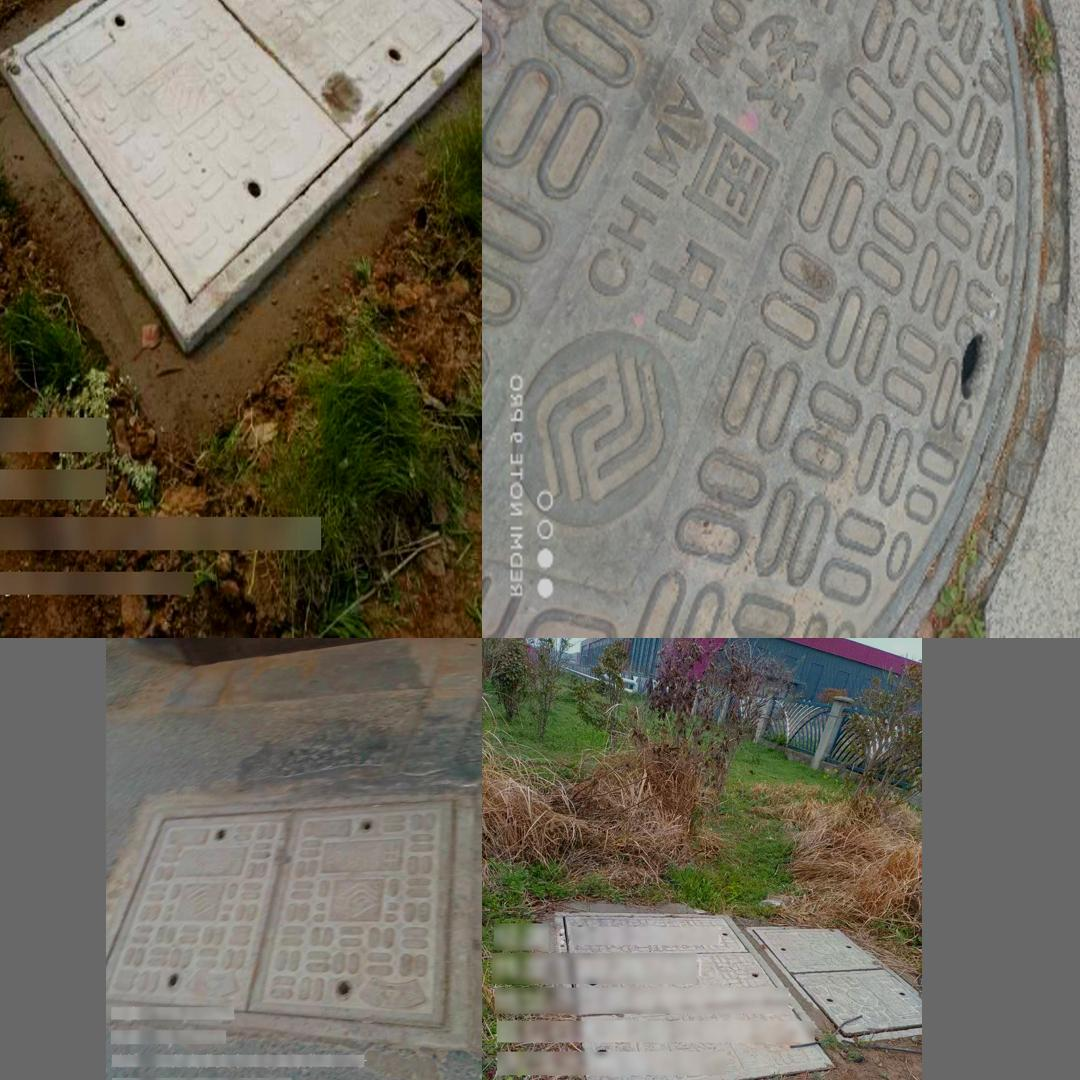good: (482, 0, 1066, 638), (0, 0, 482, 357), (108, 797, 468, 1049), (552, 911, 838, 1080), (748, 925, 922, 1043)
